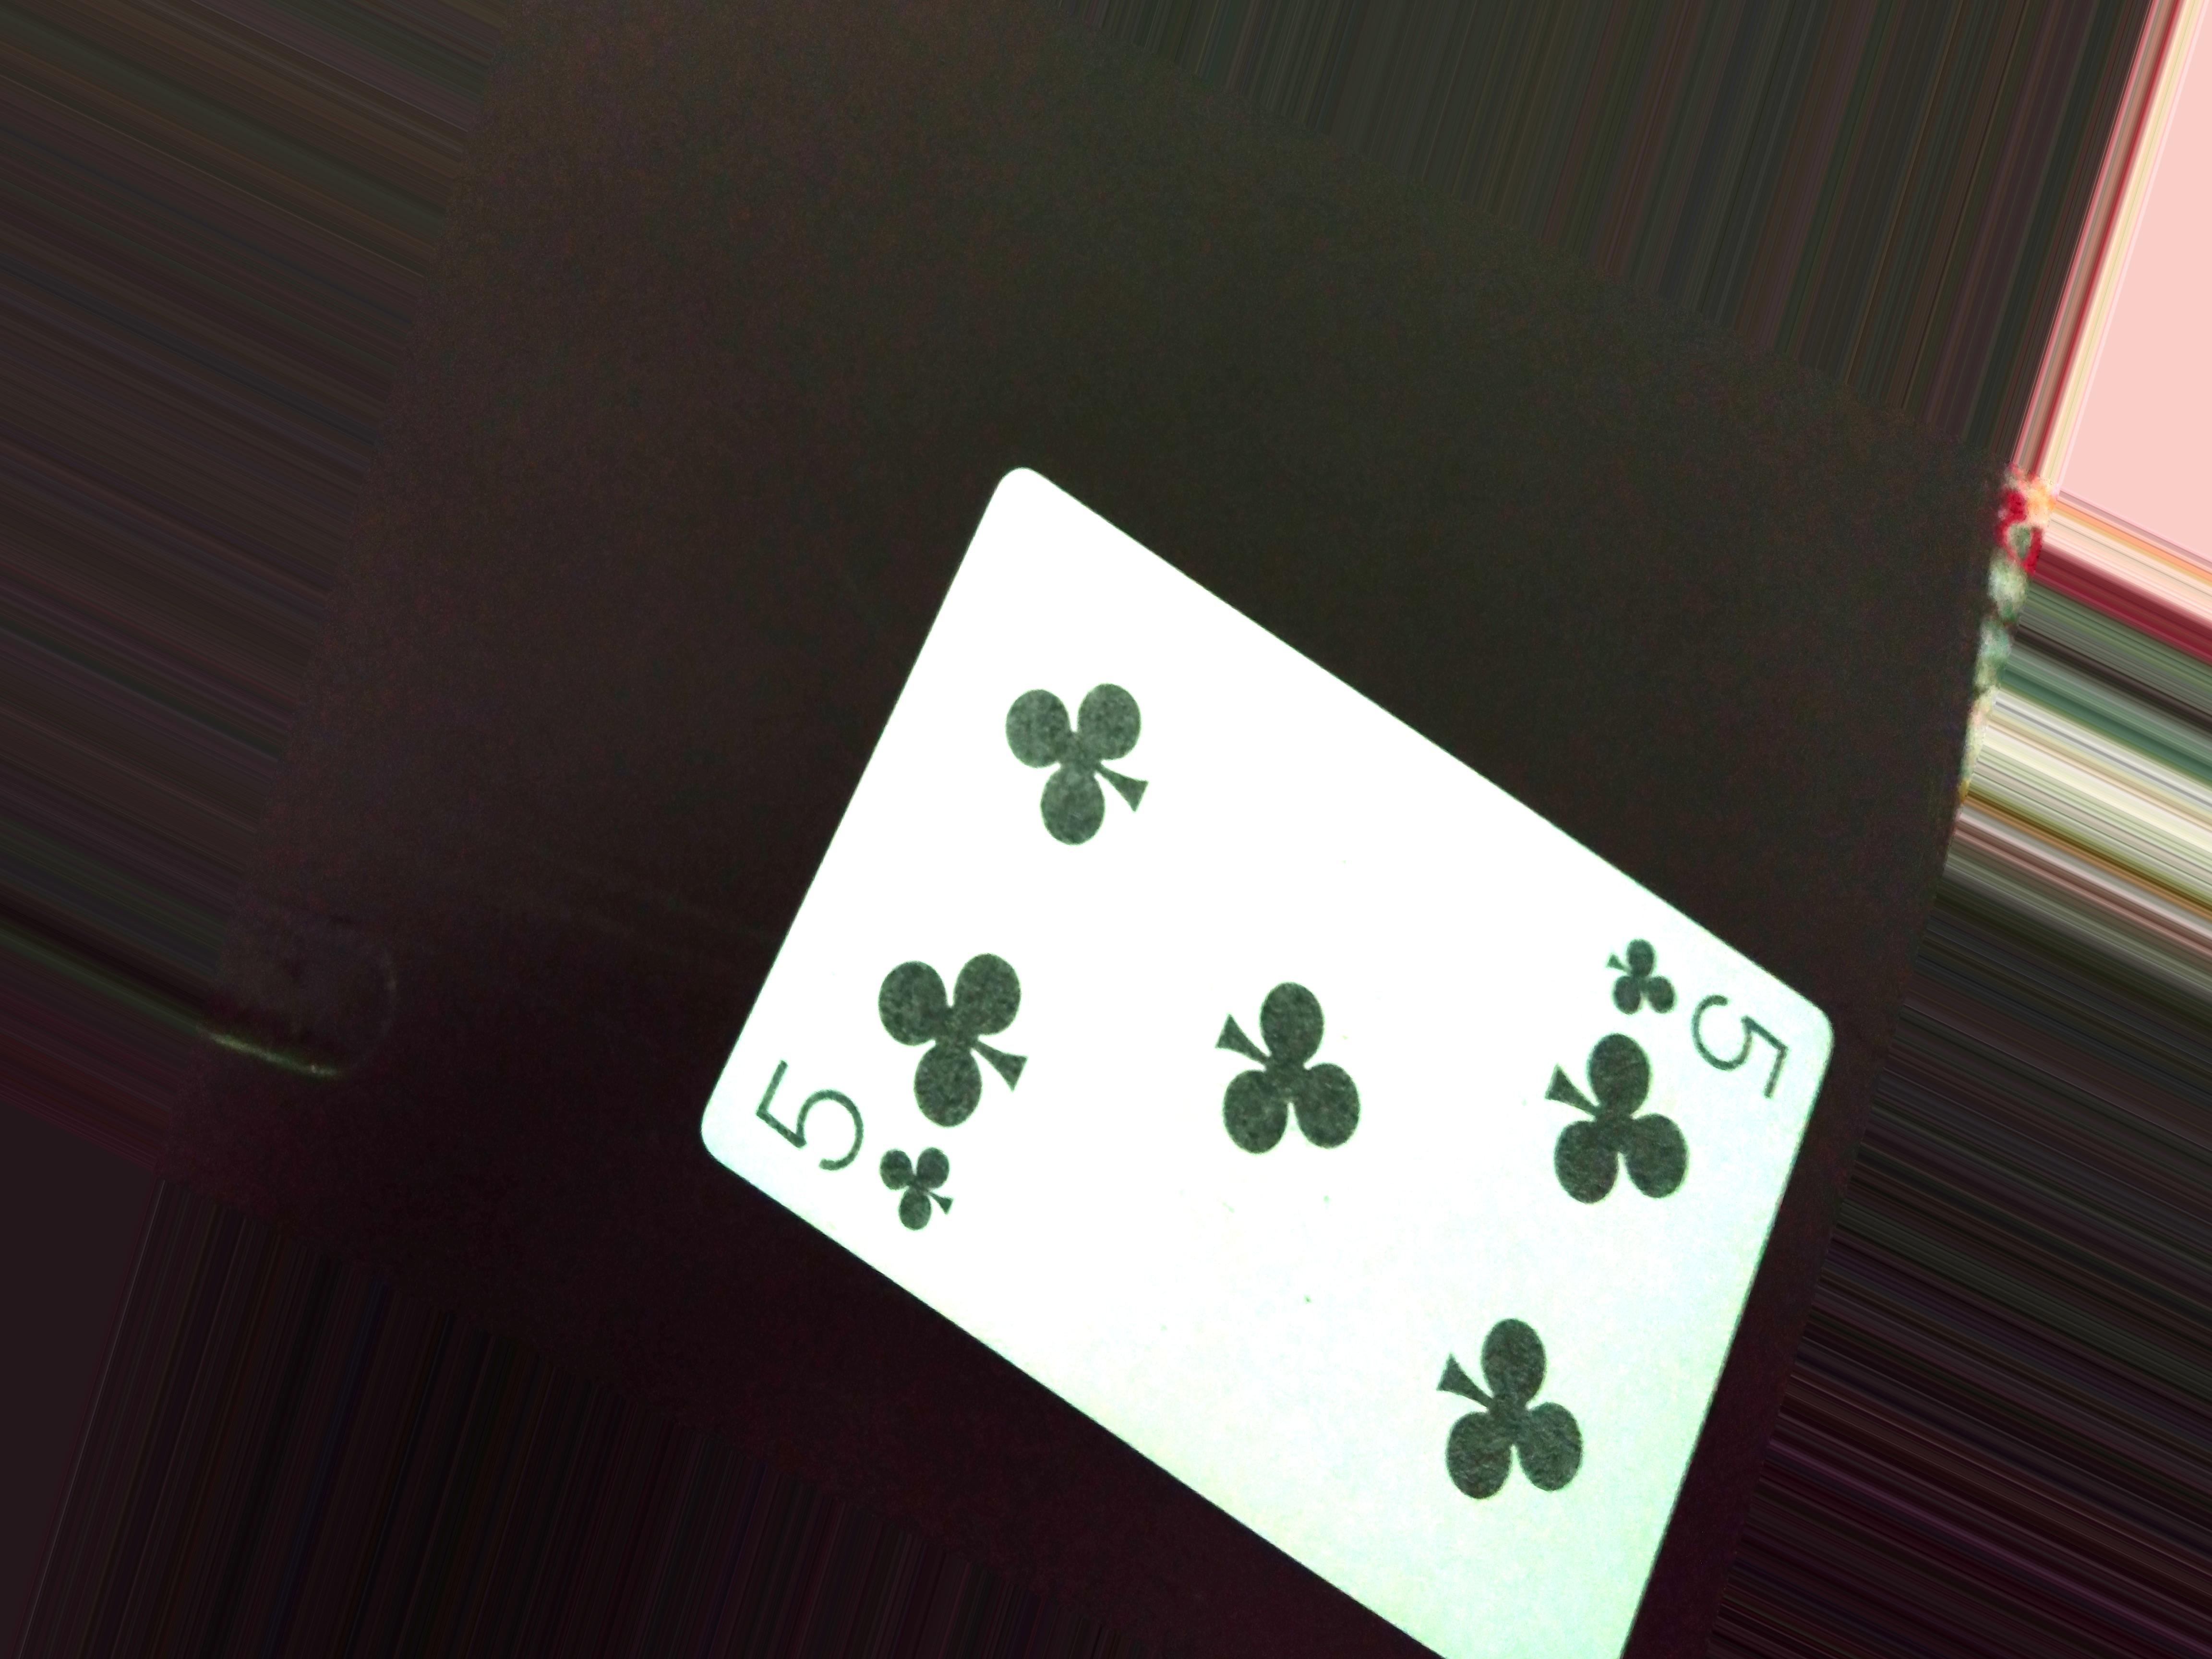5C: (744, 1053, 996, 1262)
